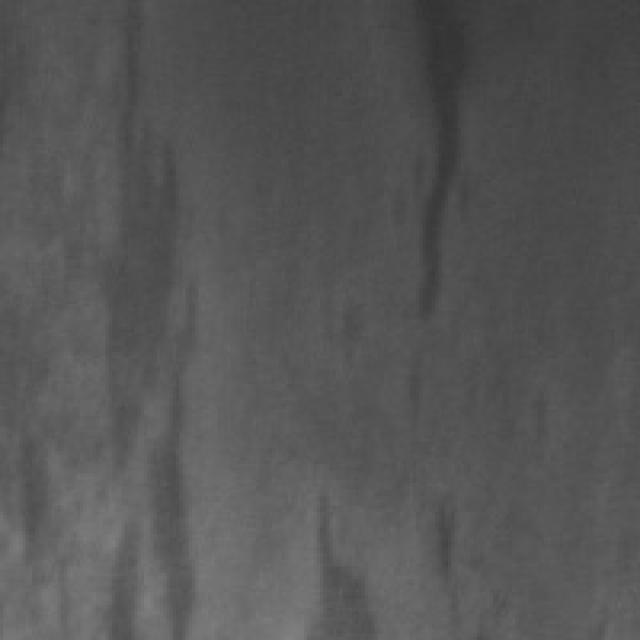inclusion: (6, 0, 198, 630), (390, 0, 477, 323), (291, 477, 381, 630), (416, 484, 486, 630)
